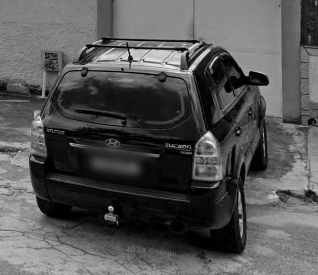car: (28, 37, 273, 259)
